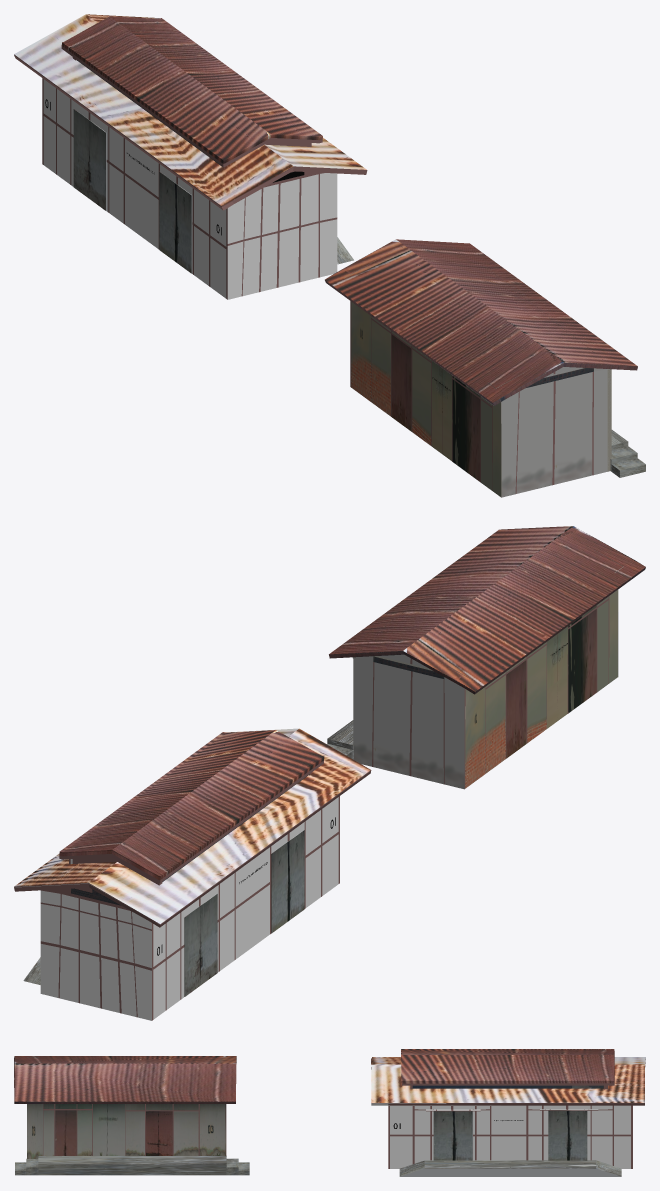
File: gedungpelindo2.fbx
3 renders of one model, top to bottom at view 1: azimuth 30°, elevation 25°; view 2: azimuth 150°, elevation 25°; view 3: azimuth 270°, elevation 25°, orthographic. The views are drawn at different scales.
Visible parts, largest first — view 1: Cube.011, Cube, Cube.007, Cube.006; view 2: Cube.011, Cube, Cube.006, Cube.007; view 3: Cube.011, Cube, Cube.001, Cube.010, Cube.009, Cube.008, Cube.002, Cube.004.
Boxes of the visible parts, x1,y1,x2,y2 form: Cube.011: (14,14,367,299); Cube: (325,239,637,497); Cube.007: (159,171,192,273); Cube.006: (73,109,106,210); Cube.011: (14,728,371,1020); Cube: (329,526,645,789); Cube.006: (184,893,217,996); Cube.007: (271,830,304,933); Cube.011: (371,1049,645,1168); Cube: (14,1056,236,1158); Cube.001: (38,1156,226,1175); Cube.010: (399,1160,621,1176); Cube.009: (548,1110,587,1160); Cube.008: (433,1111,472,1160); Cube.002: (226,1158,238,1175); Cube.004: (26,1158,38,1175).
Size of the model in its own units: 291 by 263 by 1574.
Materials: 27 (21 with a texture image).
